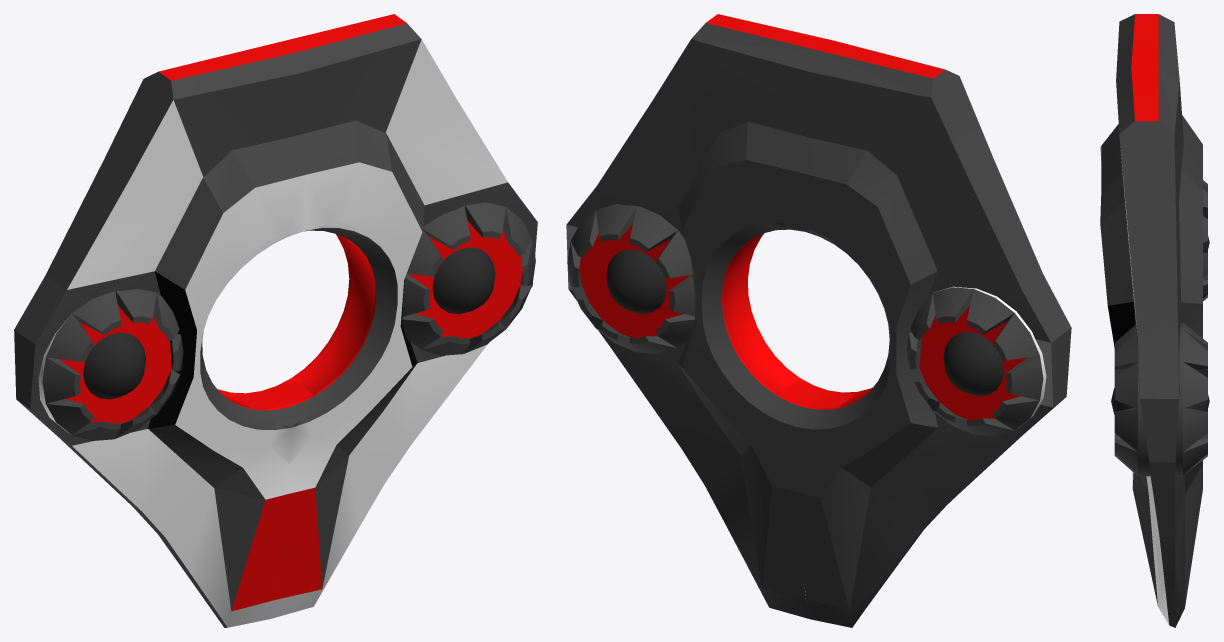
The model's file is bomber.obj.
3 renders of one model, left to right at view 1: azimuth 30°, elevation 25°; view 2: azimuth 150°, elevation 25°; view 3: azimuth 270°, elevation 25°, orthographic. The views are drawn at different scales.
Visible parts, largest first — view 1: Tube001, Cylinder030, Cylinder029, Sphere003, Sphere002; view 2: Tube001, Cylinder030, Cylinder029, Sphere002, Sphere003; view 3: Tube001, Cylinder029, Cylinder030, Sphere002.
Part boxes in pixels (box(x1,y1,x2,y2)): Tube001: box(14, 14, 537, 627); Cylinder030: box(38, 289, 183, 440); Cylinder029: box(402, 202, 535, 355); Sphere003: box(83, 332, 145, 399); Sphere002: box(432, 247, 495, 314); Tube001: box(566, 14, 1071, 627); Cylinder030: box(906, 286, 1046, 436); Cylinder029: box(567, 203, 695, 353); Sphere002: box(606, 249, 666, 313); Sphere003: box(943, 331, 1003, 396); Tube001: box(1100, 14, 1202, 627); Cylinder029: box(1114, 322, 1207, 476); Cylinder030: box(1203, 180, 1207, 301); Sphere002: box(1111, 388, 1209, 414).
Bounding box in the file's own units: 2.71 × 3.01 × 0.5502.
